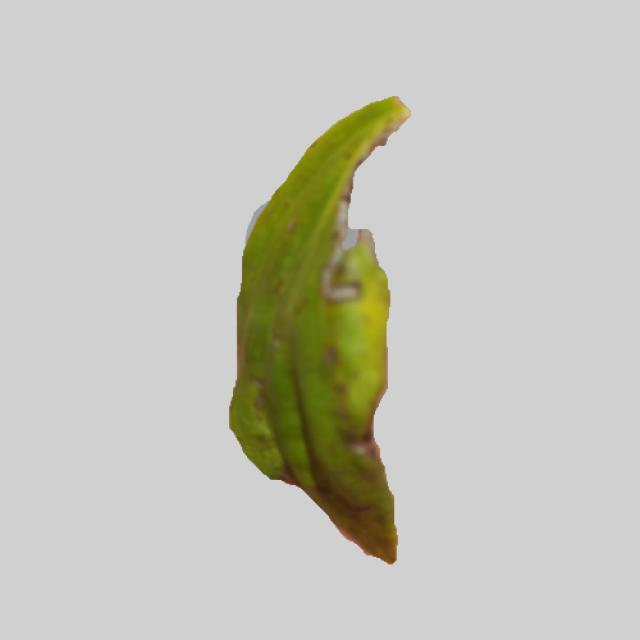yellow-mottle-virus: (199, 96, 421, 564)
